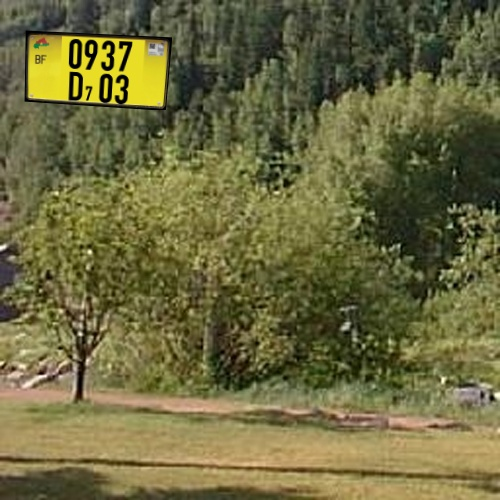plate: (14, 18, 182, 121)
